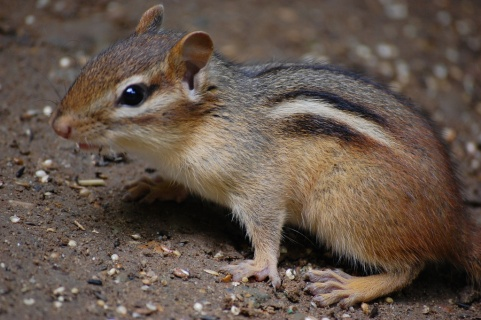Squirrel: (29, 3, 480, 308)
